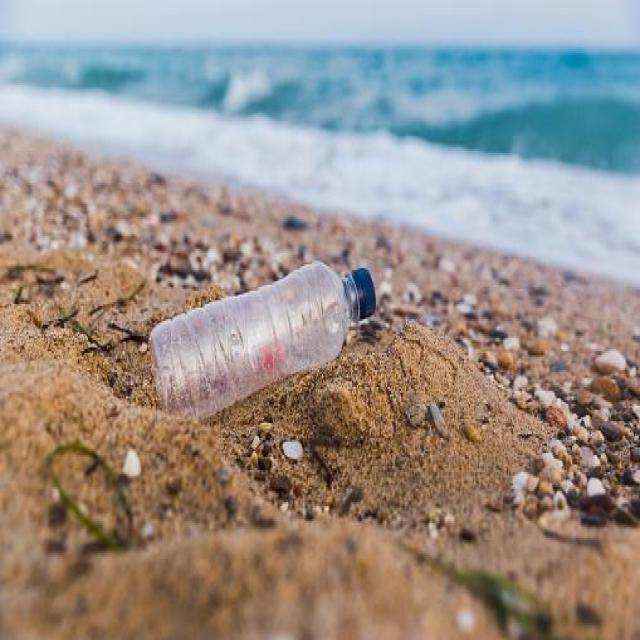bottle: (139, 259, 381, 415)
